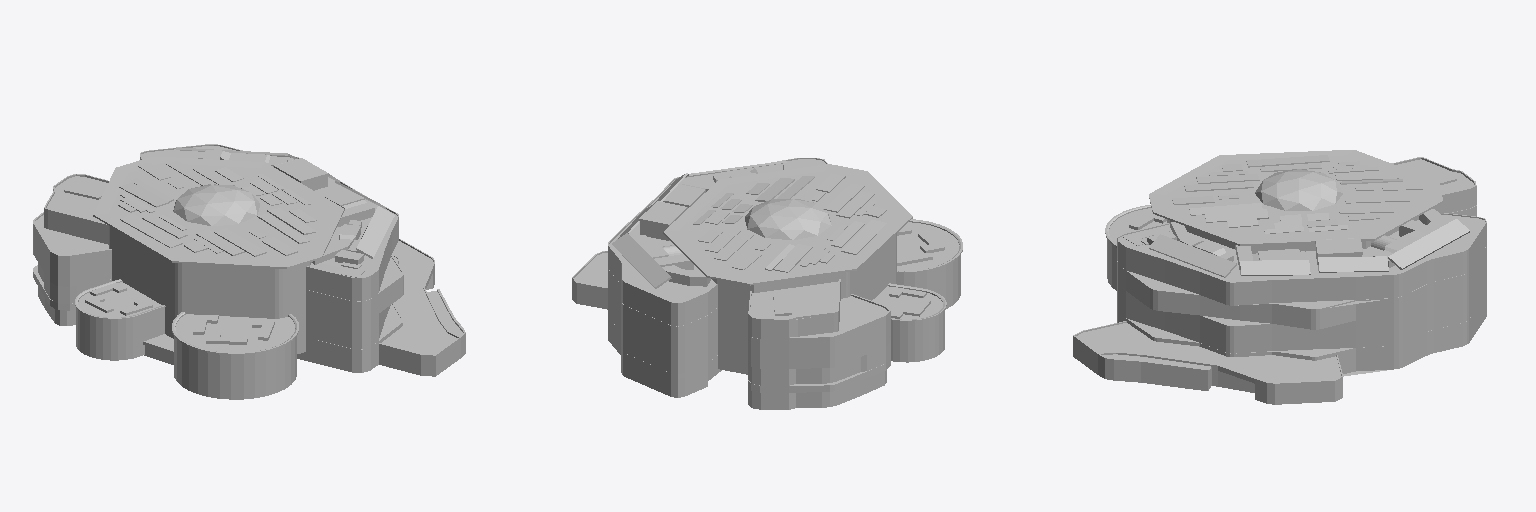
Rendered from fusion_model_published.obj.
3 renders of one model, left to right at view 1: azimuth 30°, elevation 25°; view 2: azimuth 150°, elevation 25°; view 3: azimuth 270°, elevation 25°, orthographic.
Parts seen in each view (by area): view 1: Cube, Cube.030, Cylinder, Cube.032, Cube.029, Cylinder.001, Cube.035, Icosphere, Cube.041, Plane, Cube.036, Cube.031 (+2 smaller); view 2: Cube, Cube.032, Cube.030, Cylinder, Cylinder.001, Cube.035, Icosphere, Cube.034, Plane, Cube.029, Cube.041, Cube.001; view 3: Cube.030, Cube.029, Cube, Plane, Icosphere, Cube.035, Cube.032, Cylinder, Cube.036, Cube.001, Cube.010.
Part boxes in pixels (bbox=[...]): Cube: bbox=[93, 156, 344, 353]; Cube.030: bbox=[140, 144, 403, 372]; Cylinder: bbox=[172, 312, 298, 399]; Cube.032: bbox=[33, 174, 111, 310]; Cube.029: bbox=[379, 239, 465, 376]; Cylinder.001: bbox=[75, 279, 165, 360]; Cube.035: bbox=[176, 150, 374, 226]; Icosphere: bbox=[173, 184, 259, 225]; Cube.041: bbox=[85, 283, 274, 344]; Plane: bbox=[176, 147, 394, 258]; Cube.036: bbox=[312, 220, 361, 264]; Cube.031: bbox=[143, 334, 173, 364]; Cube: bbox=[663, 164, 912, 374]; Cube.032: bbox=[748, 279, 890, 409]; Cube.030: bbox=[608, 158, 827, 397]; Cylinder: bbox=[897, 219, 962, 309]; Cylinder.001: bbox=[872, 283, 946, 362]; Cube.035: bbox=[632, 179, 713, 286]; Icosphere: bbox=[745, 199, 831, 239]; Cube.034: bbox=[796, 357, 886, 407]; Plane: bbox=[612, 161, 786, 288]; Cube.029: bbox=[572, 251, 607, 309]; Cube.041: bbox=[889, 226, 944, 318]; Cube.001: bbox=[841, 220, 886, 254]; Cube.030: bbox=[1117, 213, 1486, 376]; Cube.029: bbox=[1073, 321, 1342, 404]; Cube: bbox=[1149, 150, 1442, 253]; Plane: bbox=[1149, 219, 1469, 277]; Icosphere: bbox=[1255, 169, 1342, 210]; Cube.035: bbox=[1235, 209, 1442, 274]; Cube.032: bbox=[1391, 157, 1476, 216]; Cylinder: bbox=[1105, 205, 1166, 290]; Cube.036: bbox=[1170, 222, 1233, 261]; Cube.001: bbox=[1246, 155, 1329, 167]; Cube.010: bbox=[1205, 209, 1268, 222].
Bounding box in the file's own units: 86.8 × 30.21 × 89.06.